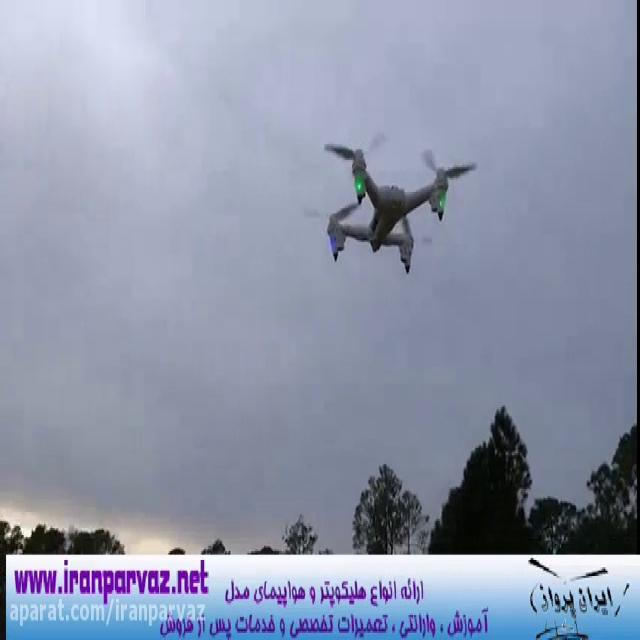drone: (298, 123, 480, 277)
